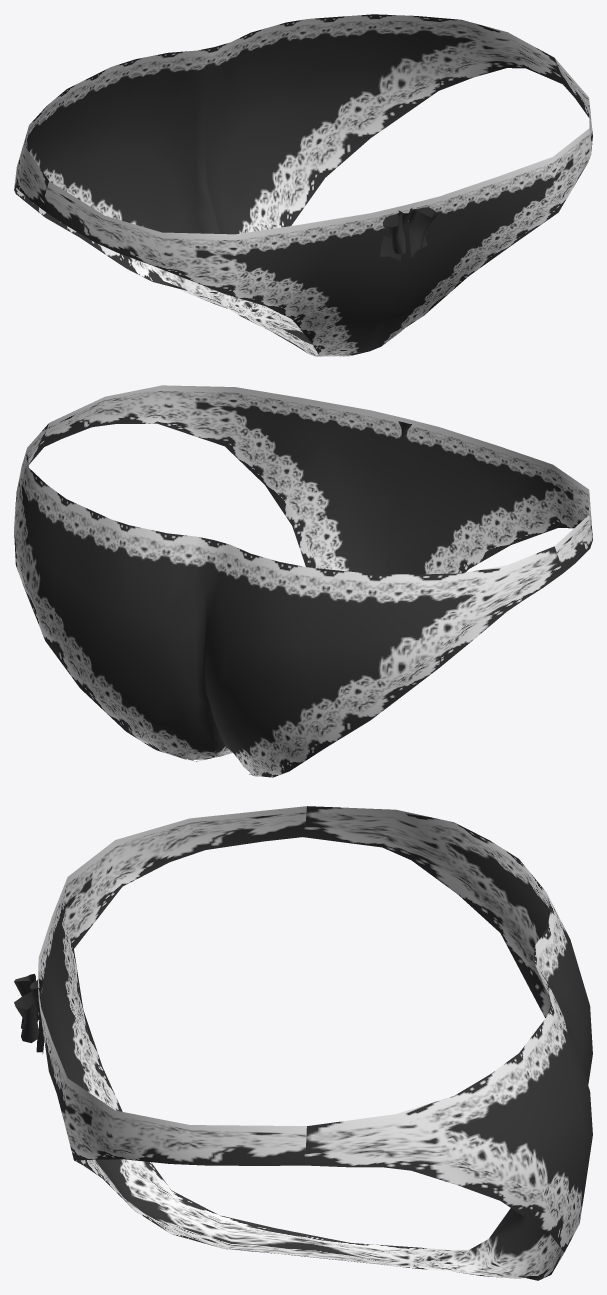
Rendered from MaidPanties1.fbx.
3 views of the same model, one above another, from view 1: azimuth 30°, elevation 25°; view 2: azimuth 150°, elevation 25°; view 3: azimuth 270°, elevation 25° (orthographic). The views are drawn at different scales.
Visible parts, largest first — view 1: Maid_Pantie; view 2: Maid_Pantie; view 3: Maid_Pantie.
Boxes of the visible parts, x1=… form: Maid_Pantie: x1=14, y1=14, x2=592, y2=356; Maid_Pantie: x1=14, y1=385, x2=592, y2=777; Maid_Pantie: x1=14, y1=806, x2=592, y2=1280.
Size of the model in its own units: 29.69 by 13.01 by 22.12.
1 material, 1 textured.
